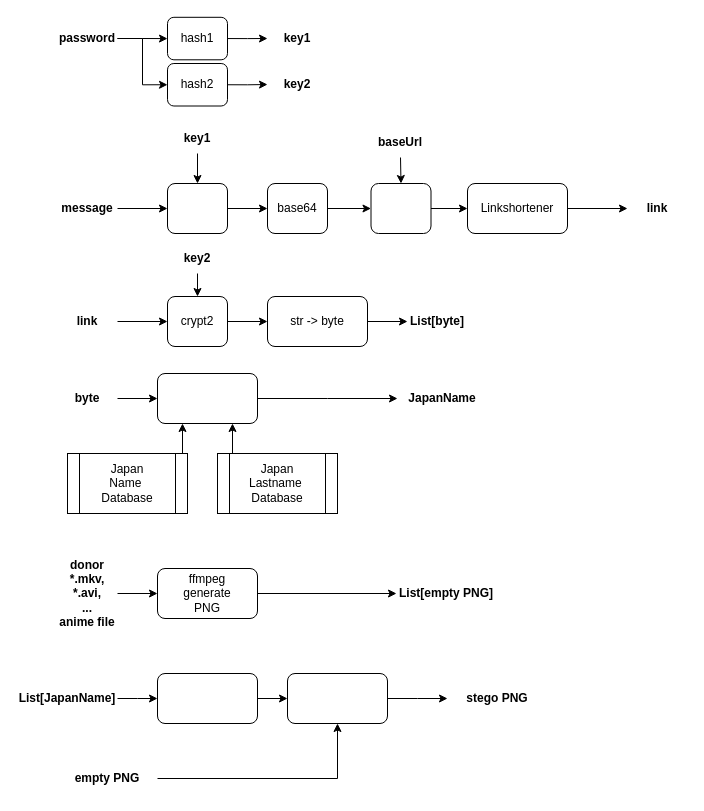
Image size: 704x811. Some labels were removed from this diagram. Each missing label, with the centre of its shape:
"crypt1" belongs at [197,208].
"embed" belongs at [337,698].
"hash-steganography" belongs at [207,398].
"make comment" belongs at [207,698].
"Sdarn" belongs at [400,208].
